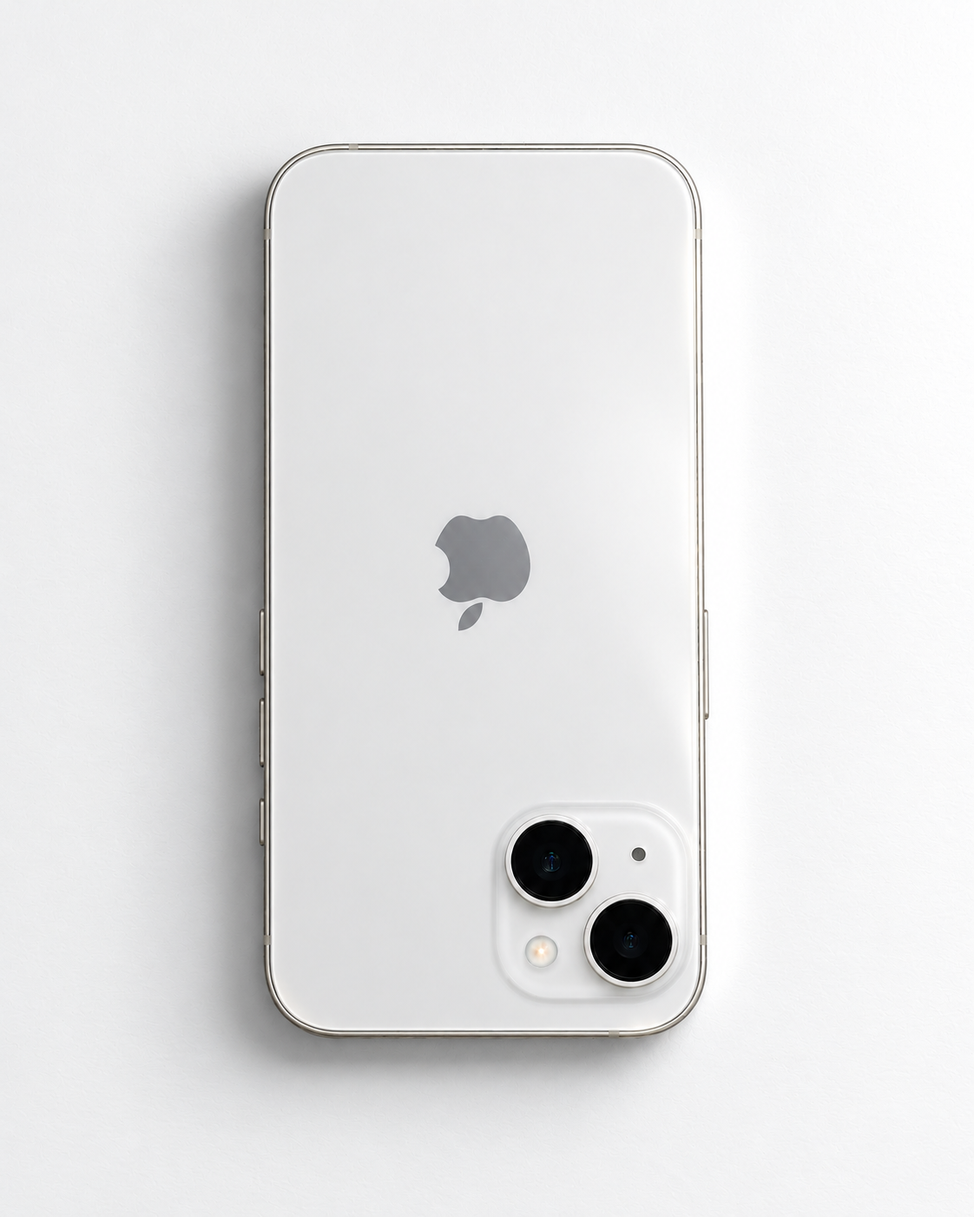iphone_14_white: (203, 100, 799, 1091), (494, 808, 682, 1014)
